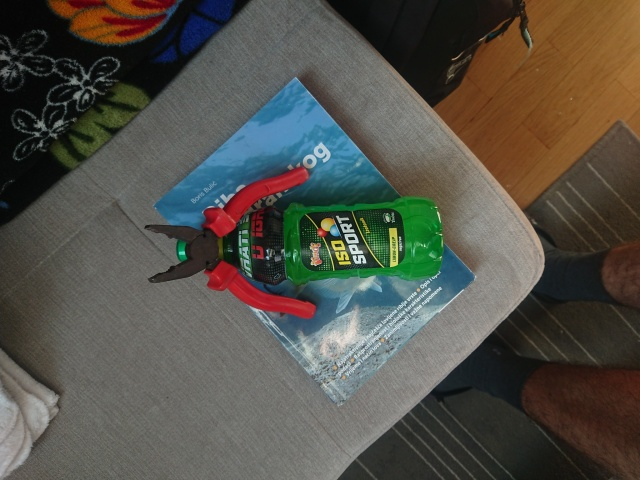Vindi Iso Sport Lemon-Grapefruit 500mL: (171, 193, 447, 289)
